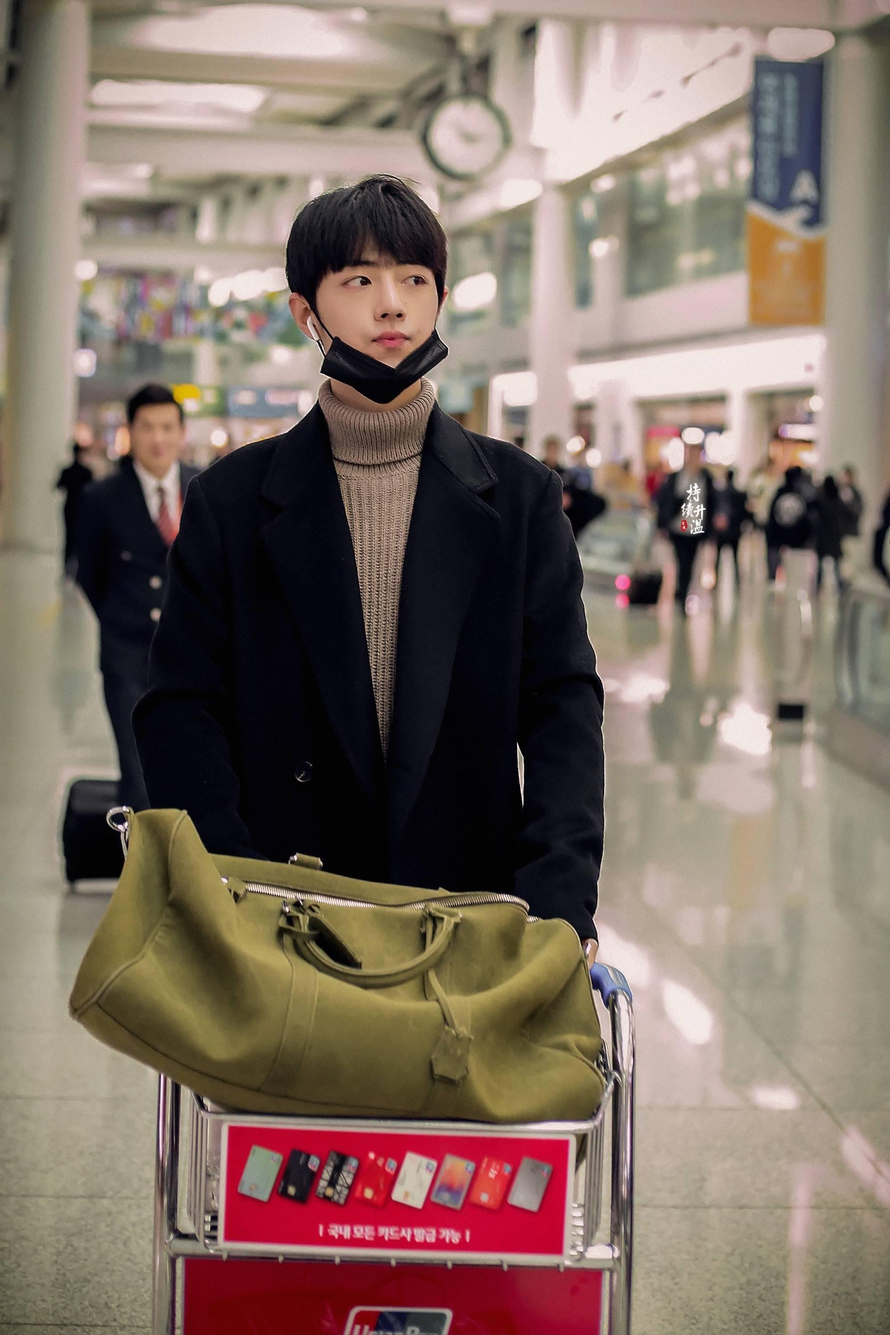NONE: (136, 411, 180, 472)
WRONG: (321, 239, 439, 391)
